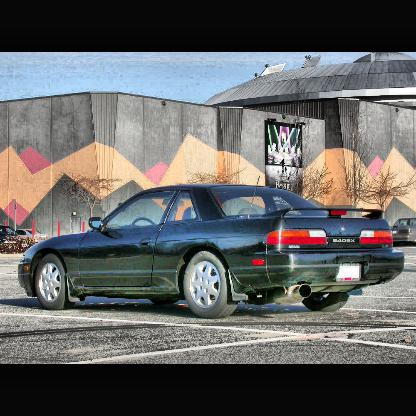Nissan 240SX Coupe 1998: (20, 186, 407, 319)
